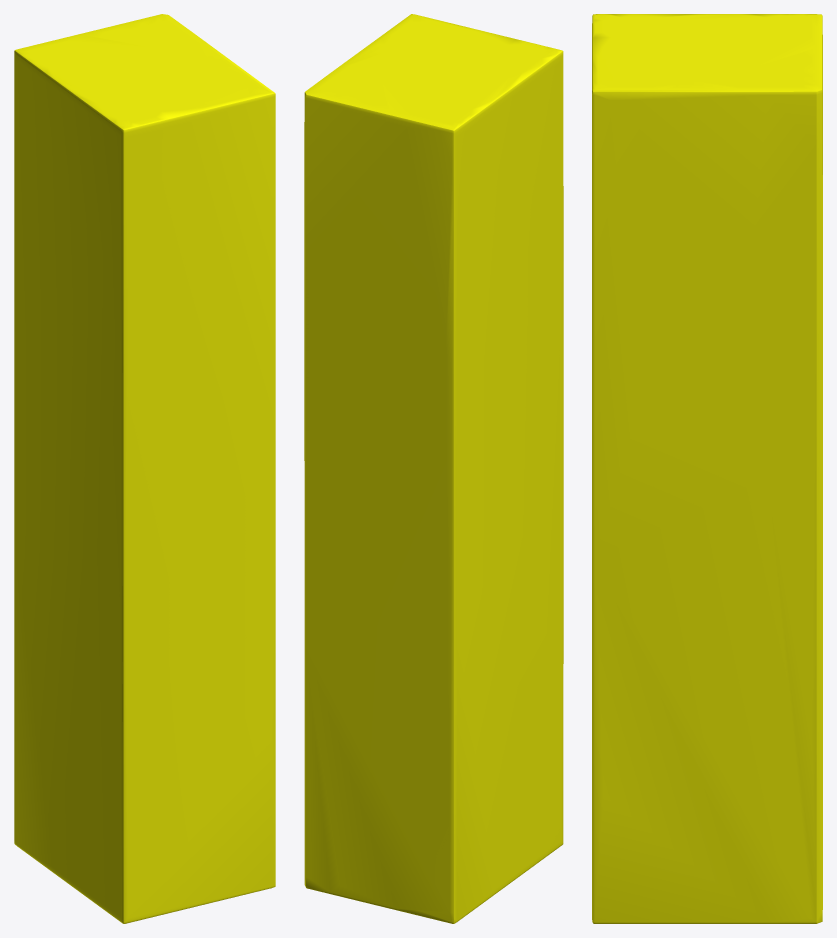
File: matraca-dir.glb
The picture shows the model from 3 angles, left to right: view 1: azimuth 30°, elevation 25°; view 2: azimuth 150°, elevation 25°; view 3: azimuth 270°, elevation 25°; orthographic projection. The views are drawn at different scales.
Parts seen in each view (by area): view 1: MADEIRA_02_DIR; view 2: MADEIRA_02_DIR; view 3: MADEIRA_02_DIR.
Part boxes in pixels (<box>): MADEIRA_02_DIR: <box>14,14,275,923</box>; MADEIRA_02_DIR: <box>304,14,563,923</box>; MADEIRA_02_DIR: <box>592,14,822,923</box>.
Bounding box in the file's own units: 0.4001 × 1.98 × 0.4982.
